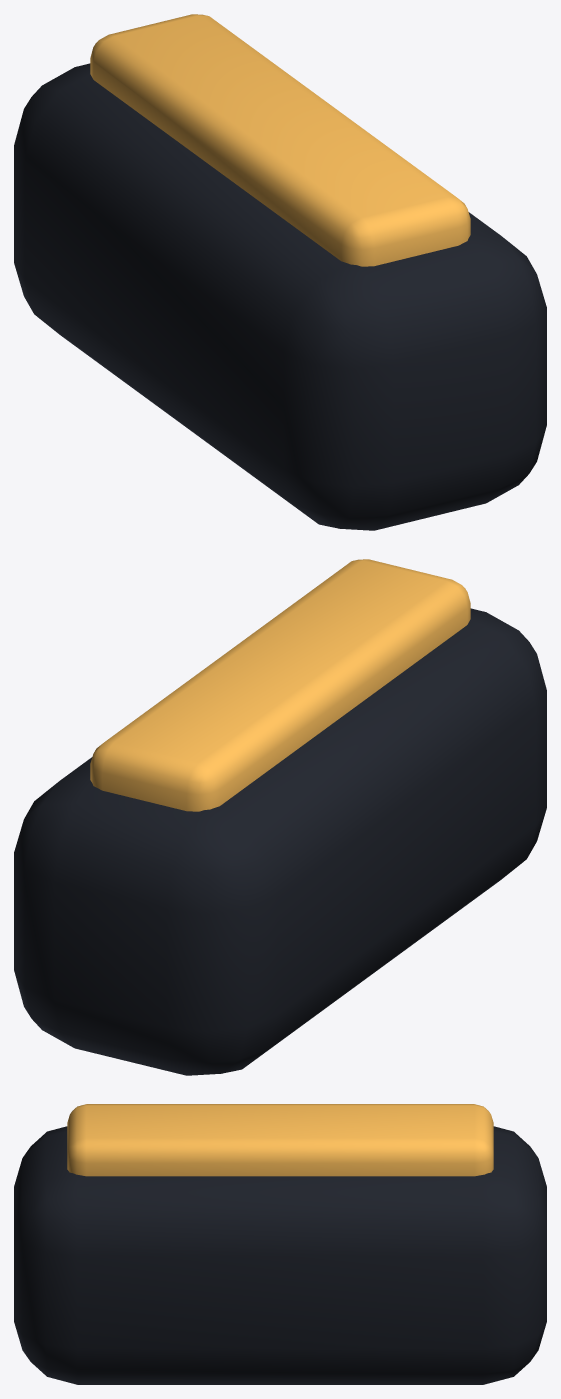
File: s02_pistol.glb
3 views of the same model, one above another, from view 1: azimuth 30°, elevation 25°; view 2: azimuth 150°, elevation 25°; view 3: azimuth 270°, elevation 25° (orthographic). The views are drawn at different scales.
Visible parts, largest first — view 1: s02_pistol_Body, s02_pistol_Sight; view 2: s02_pistol_Body, s02_pistol_Sight; view 3: s02_pistol_Body, s02_pistol_Sight.
Part boxes in pixels (<box>): s02_pistol_Body: <box>14,63,546,530</box>; s02_pistol_Sight: <box>90,14,470,266</box>; s02_pistol_Body: <box>14,608,546,1075</box>; s02_pistol_Sight: <box>90,559,470,811</box>; s02_pistol_Body: <box>14,1126,546,1384</box>; s02_pistol_Sight: <box>67,1104,493,1176</box>.
Bounding box in the file's own units: 0.18 × 0.205 × 0.42.
